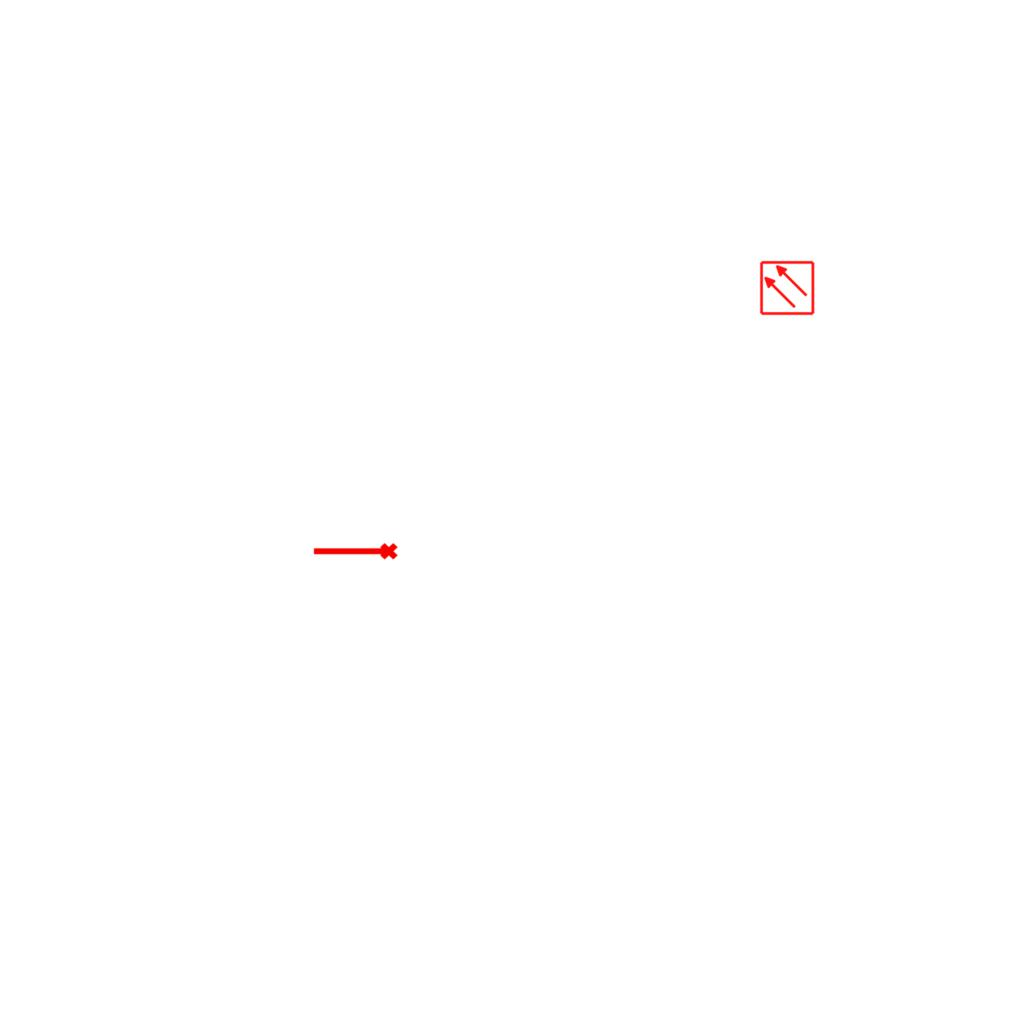ASR_Ansaugoeffnung: (311, 541, 399, 564)
RMO_Rauchmelder_optischer: (759, 260, 815, 316)
